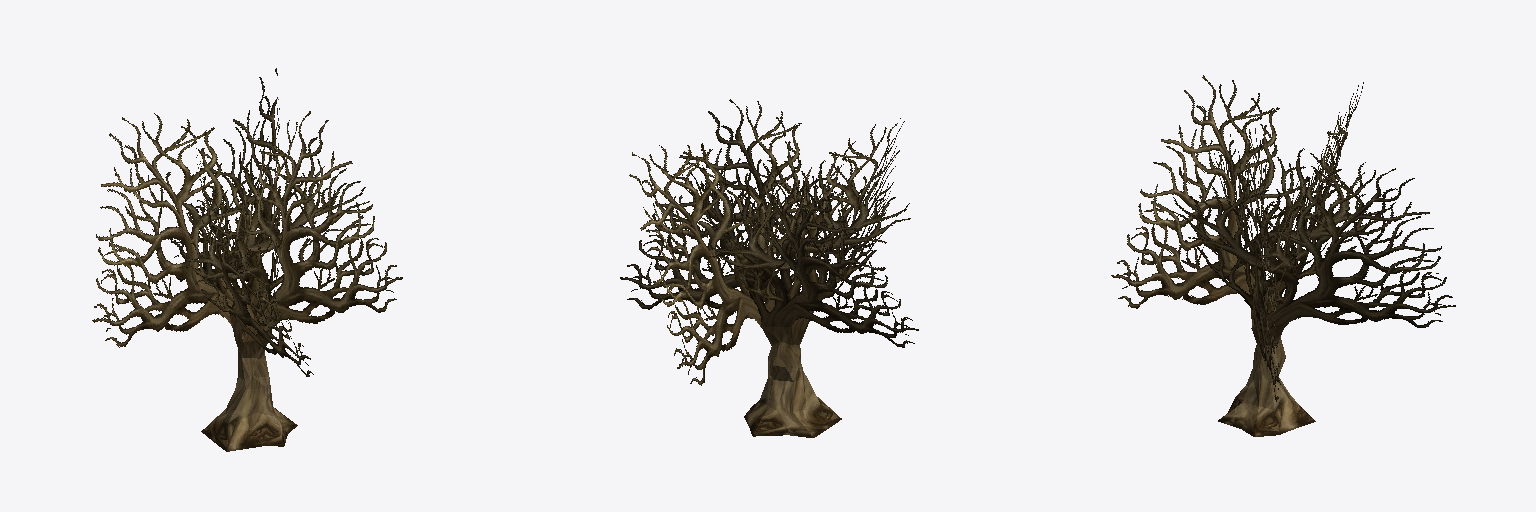
3 renders of one model, left to right at view 1: azimuth 30°, elevation 25°; view 2: azimuth 150°, elevation 25°; view 3: azimuth 270°, elevation 25°, orthographic.
Parts seen in each view (by area): view 1: world/azeroth/duskwood/passivedoodads/trees/duskwoodtreecanopy03; view 2: world/azeroth/duskwood/passivedoodads/trees/duskwoodtreecanopy03; view 3: world/azeroth/duskwood/passivedoodads/trees/duskwoodtreecanopy03.
Boxes of the visible parts, x1=… form: world/azeroth/duskwood/passivedoodads/trees/duskwoodtreecanopy03: x1=92, y1=68, x2=402, y2=451; world/azeroth/duskwood/passivedoodads/trees/duskwoodtreecanopy03: x1=620, y1=99, x2=918, y2=437; world/azeroth/duskwood/passivedoodads/trees/duskwoodtreecanopy03: x1=1111, y1=75, x2=1455, y2=436.
Size of the model in its own units: 69.66 by 63.28 by 66.56.
2 materials, 2 textured.